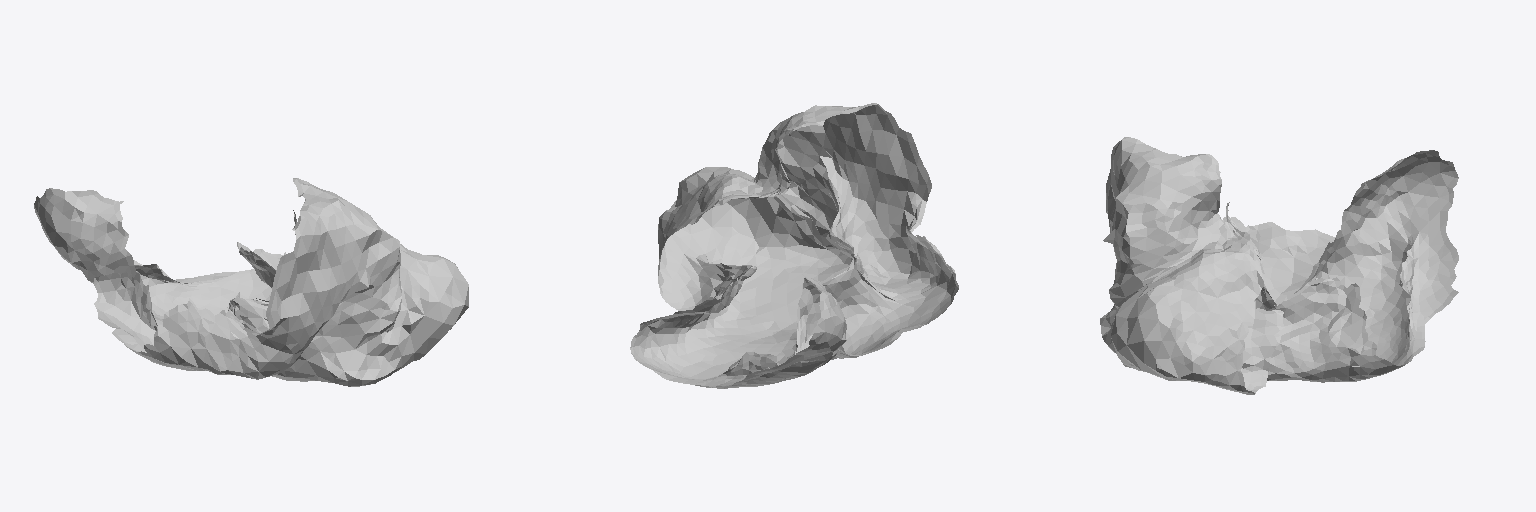
Rendered from R_occipital_pole.obj.
3 views of the same model, side by side, from view 1: azimuth 30°, elevation 25°; view 2: azimuth 150°, elevation 25°; view 3: azimuth 270°, elevation 25° (orthographic).
Visible parts, largest first — view 1: R_occipital_pole_L_occipital_pole; view 2: R_occipital_pole_L_occipital_pole; view 3: R_occipital_pole_L_occipital_pole.
Part boxes in pixels (bbox=[...]): R_occipital_pole_L_occipital_pole: bbox=[34, 178, 468, 386]; R_occipital_pole_L_occipital_pole: bbox=[630, 103, 958, 388]; R_occipital_pole_L_occipital_pole: bbox=[1100, 137, 1458, 394].
Bounding box in the file's own units: 115 × 74.34 × 117.